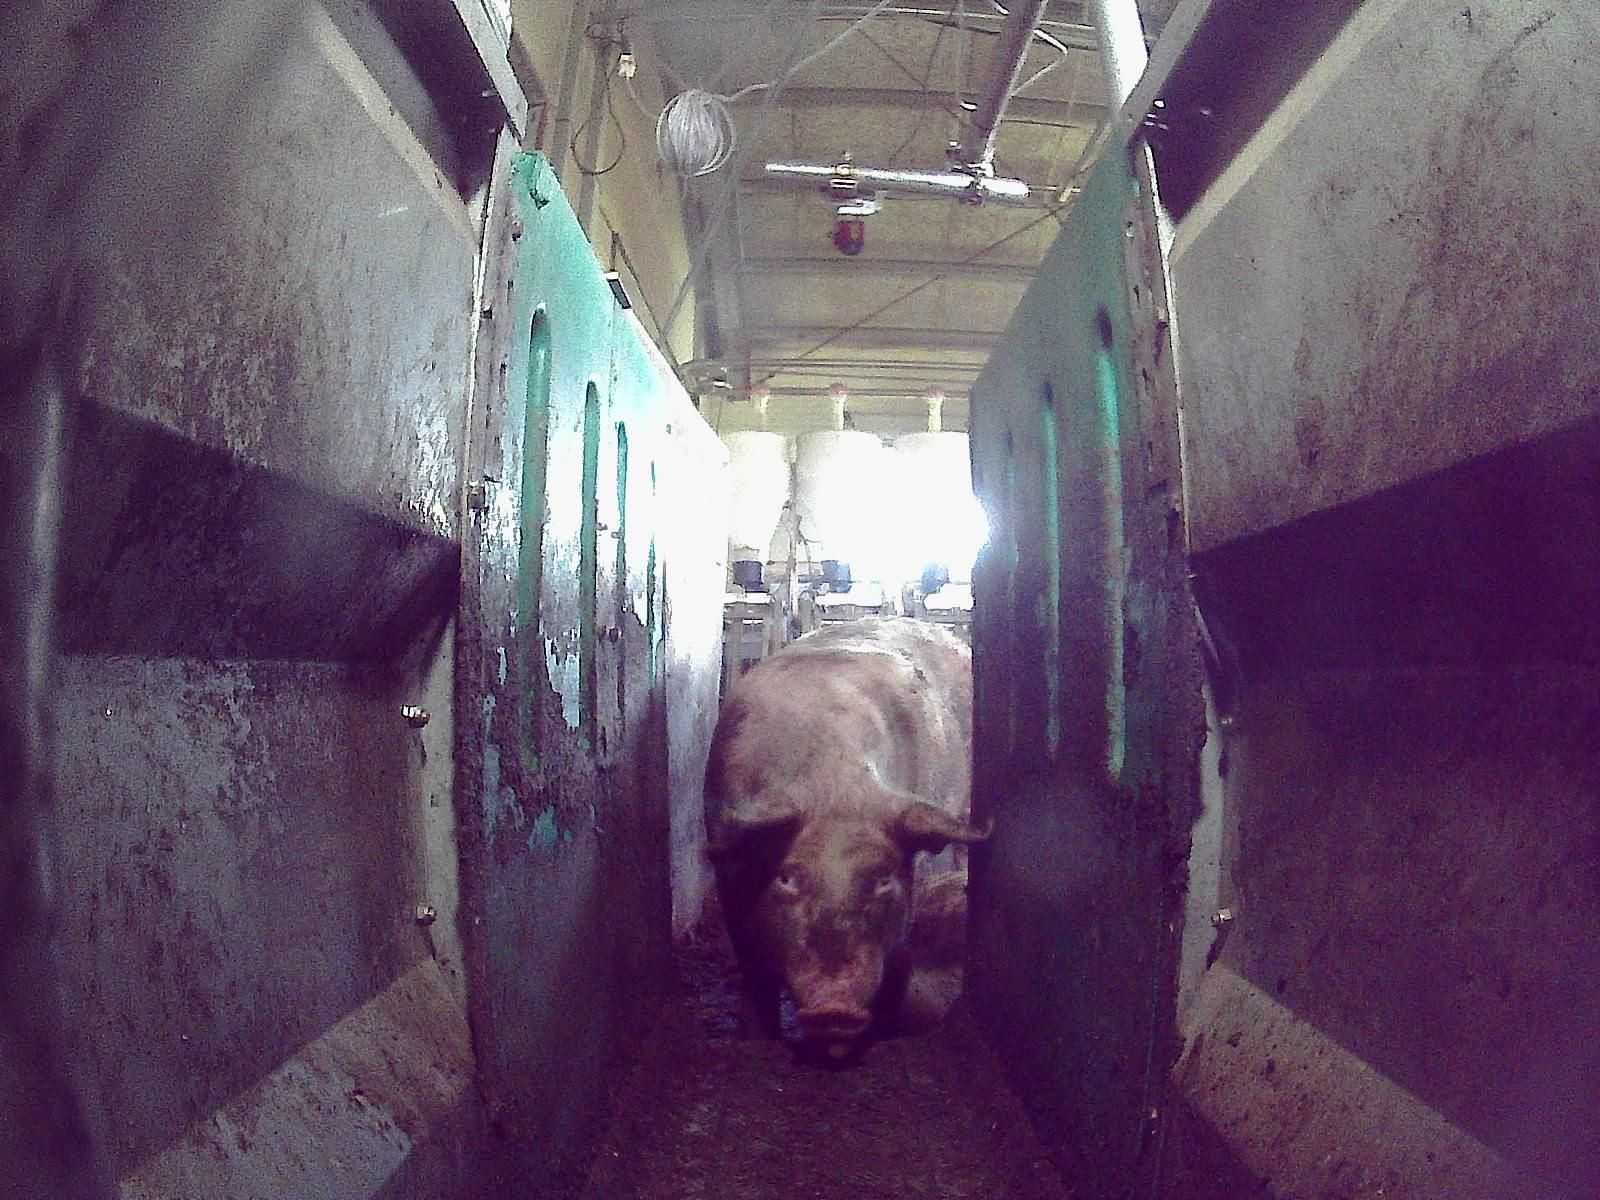Face: (748, 799, 915, 1034)
